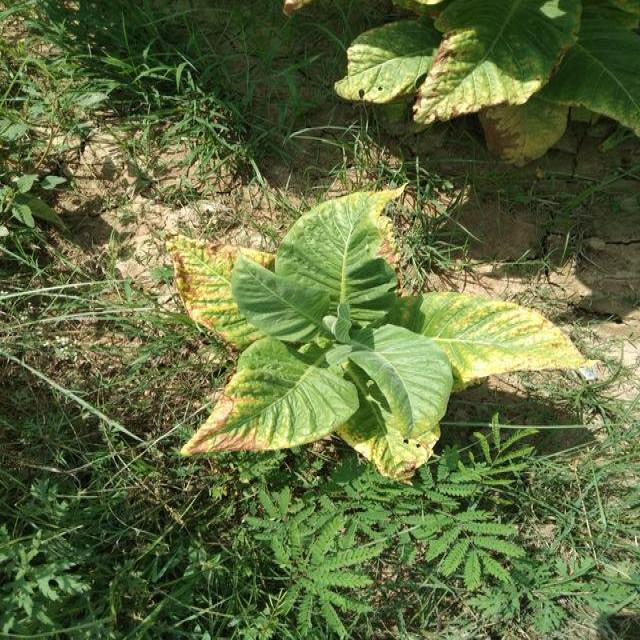crop: (166, 181, 576, 478), (324, 4, 610, 122)
